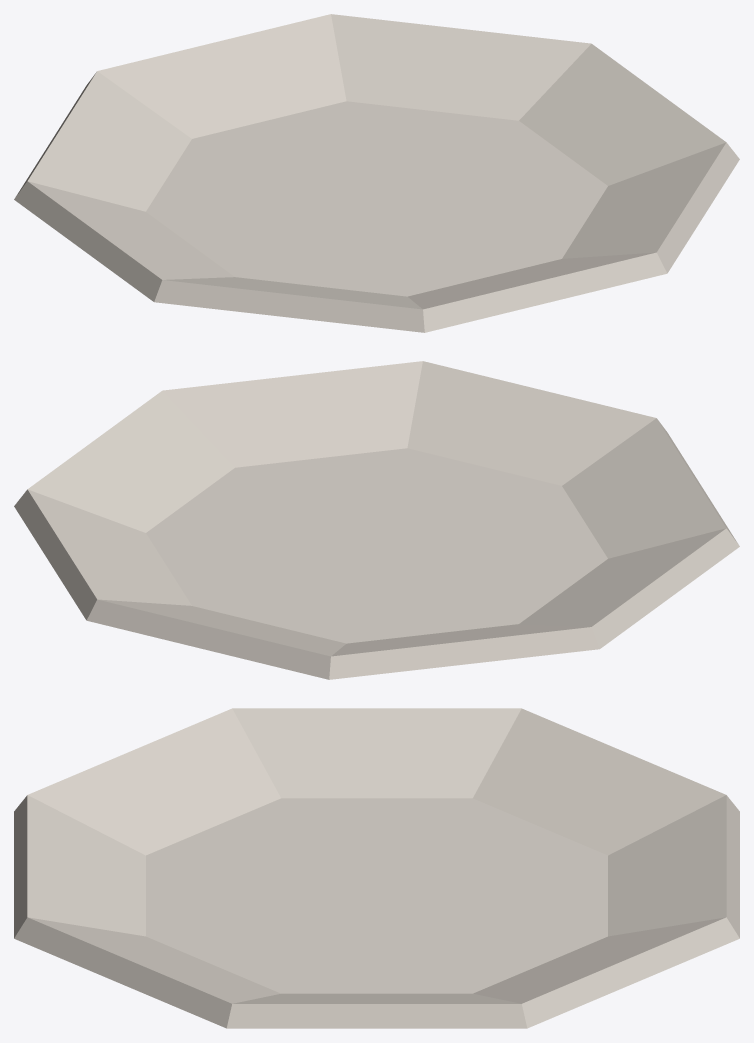
Rendered from SM_Prop_Plate_02.fbx.
3 renders of one model, top to bottom at view 1: azimuth 30°, elevation 25°; view 2: azimuth 150°, elevation 25°; view 3: azimuth 270°, elevation 25°, orthographic. The views are drawn at different scales.
Visible parts, largest first — view 1: SM_Prop_Plate_02; view 2: SM_Prop_Plate_02; view 3: SM_Prop_Plate_02.
Part boxes in pixels (bbox=[...]): SM_Prop_Plate_02: bbox=[14, 14, 739, 332]; SM_Prop_Plate_02: bbox=[14, 361, 739, 679]; SM_Prop_Plate_02: bbox=[14, 708, 739, 1028].
Size of the model in its own units: 29.21 by 2.71 by 29.21.
